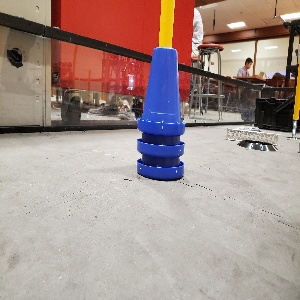Blue_3: (135, 47, 185, 180)
